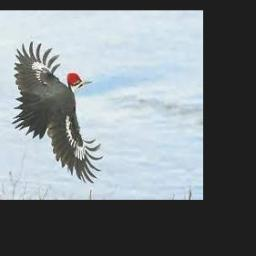Woodpecker: (12, 40, 104, 183)
